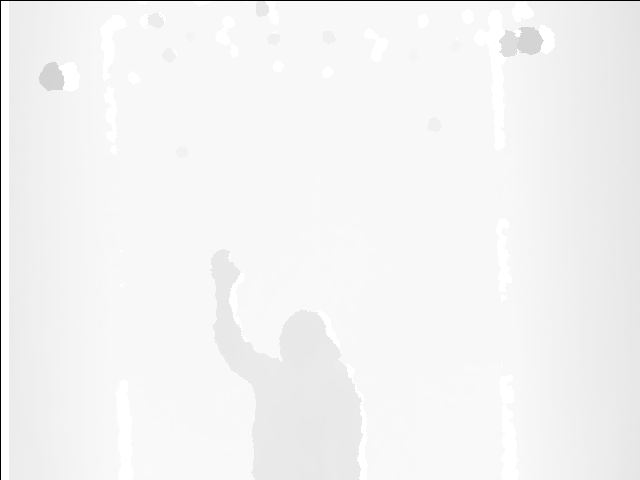hand: (208, 249, 242, 297)
